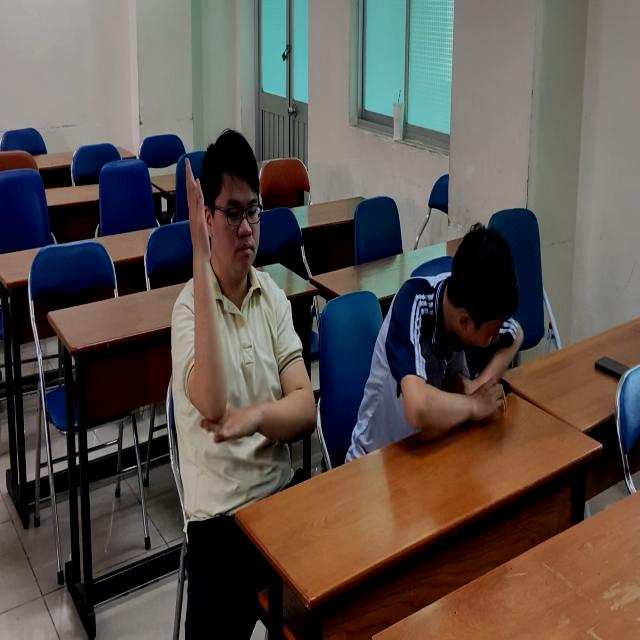raise_hand: (170, 124, 325, 461)
sleep: (370, 215, 533, 450)
